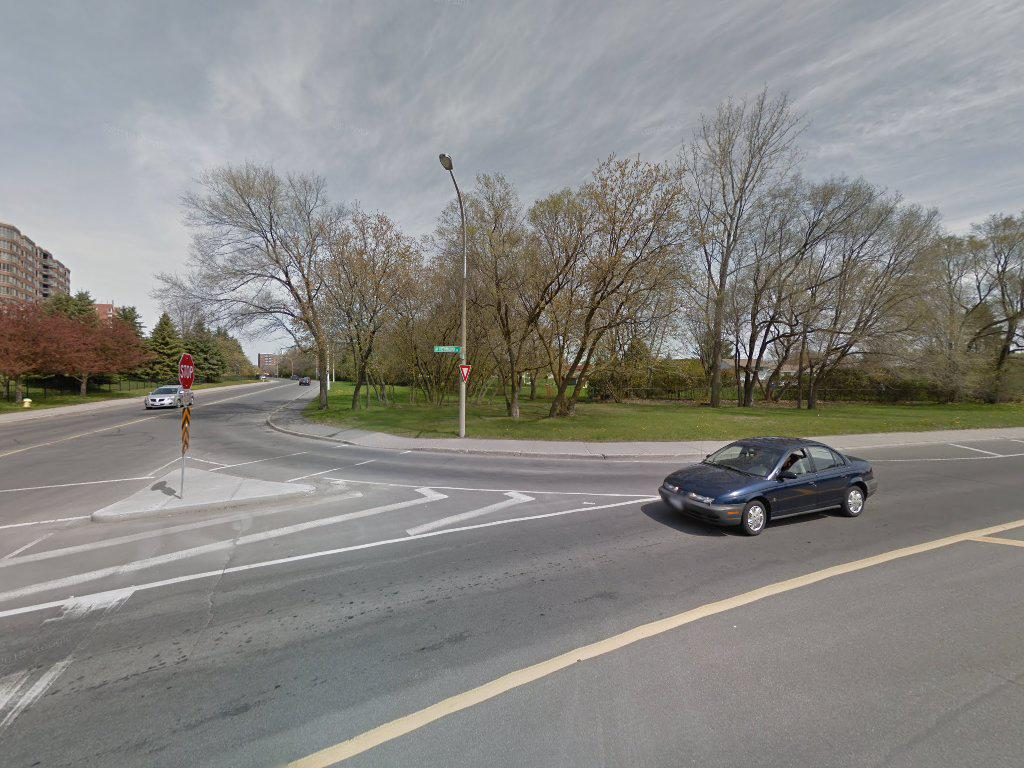trunk: (314, 333, 334, 415), (503, 357, 525, 422), (712, 312, 725, 416)
